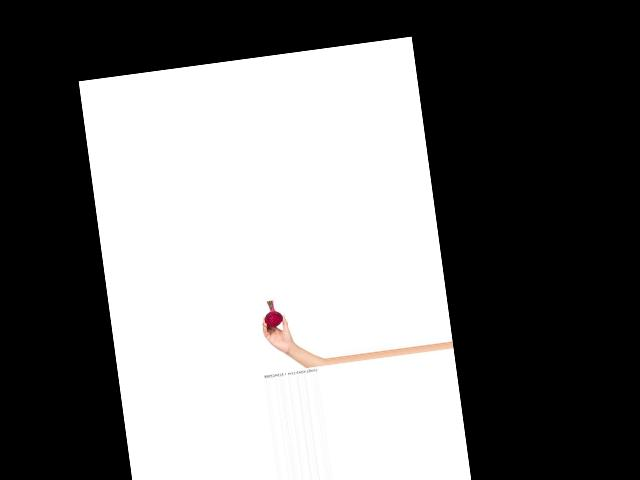beet: (261, 299, 283, 327)
